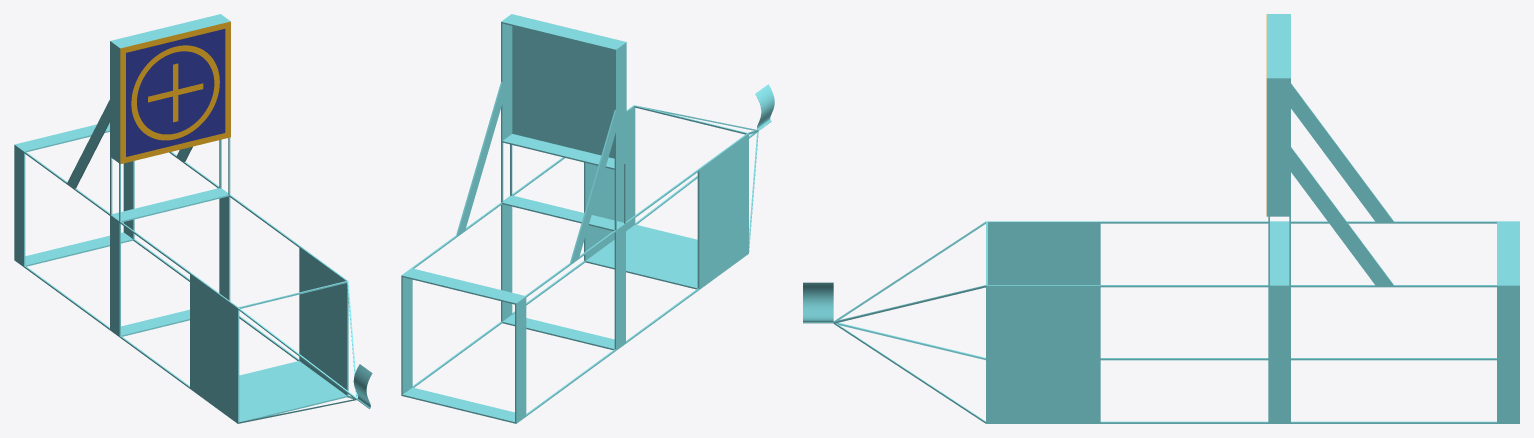
File: high_base_left.obj
3 views of the same model, side by side, from view 1: azimuth 30°, elevation 25°; view 2: azimuth 150°, elevation 25°; view 3: azimuth 270°, elevation 25° (orthographic). The views are drawn at different scales.
Visible parts, largest first — view 1: high_base_left_Body1.005, high_base_left_blue_circle_Body4.005, high_base_left_blue_frame_Body2.006, high_base_left_yellow_frame_Body1.023, high_base_left_yellow_circle_Body3.005, high_base_left_cross_Body5.004, right_flag_Body1.004, high_base_plate_left_Body1.003; view 2: high_base_left_Body1.005, high_base_plate_left_Body1.003, right_flag_Body1.004; view 3: high_base_left_Body1.005, right_flag_Body1.004.
Boxes of the visible parts, x1=… form: high_base_left_Body1.005: x1=14, y1=14, x2=370, y2=423; high_base_left_blue_circle_Body4.005: x1=137, y1=51, x2=214, y2=134; high_base_left_blue_frame_Body2.006: x1=126, y1=29, x2=225, y2=156; high_base_left_yellow_frame_Body1.023: x1=120, y1=21, x2=230, y2=164; high_base_left_yellow_circle_Body3.005: x1=131, y1=45, x2=219, y2=140; high_base_left_cross_Body5.004: x1=148, y1=63, x2=203, y2=122; right_flag_Body1.004: x1=353, y1=364, x2=372, y2=407; high_base_plate_left_Body1.003: x1=119, y1=21, x2=230, y2=163; high_base_left_Body1.005: x1=401, y1=14, x2=771, y2=423; high_base_plate_left_Body1.003: x1=511, y1=14, x2=626, y2=162; right_flag_Body1.004: x1=755, y1=84, x2=774, y2=129; high_base_left_Body1.005: x1=803, y1=14, x2=1519, y2=423; right_flag_Body1.004: x1=803, y1=282, x2=833, y2=322.
Size of the model in its own units: 1 by 2.5 by 4.7.
